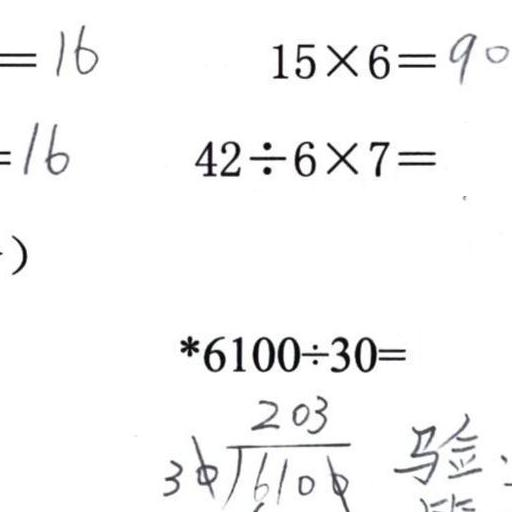ans: (443, 27, 509, 82), (17, 116, 69, 176), (49, 19, 98, 76)
